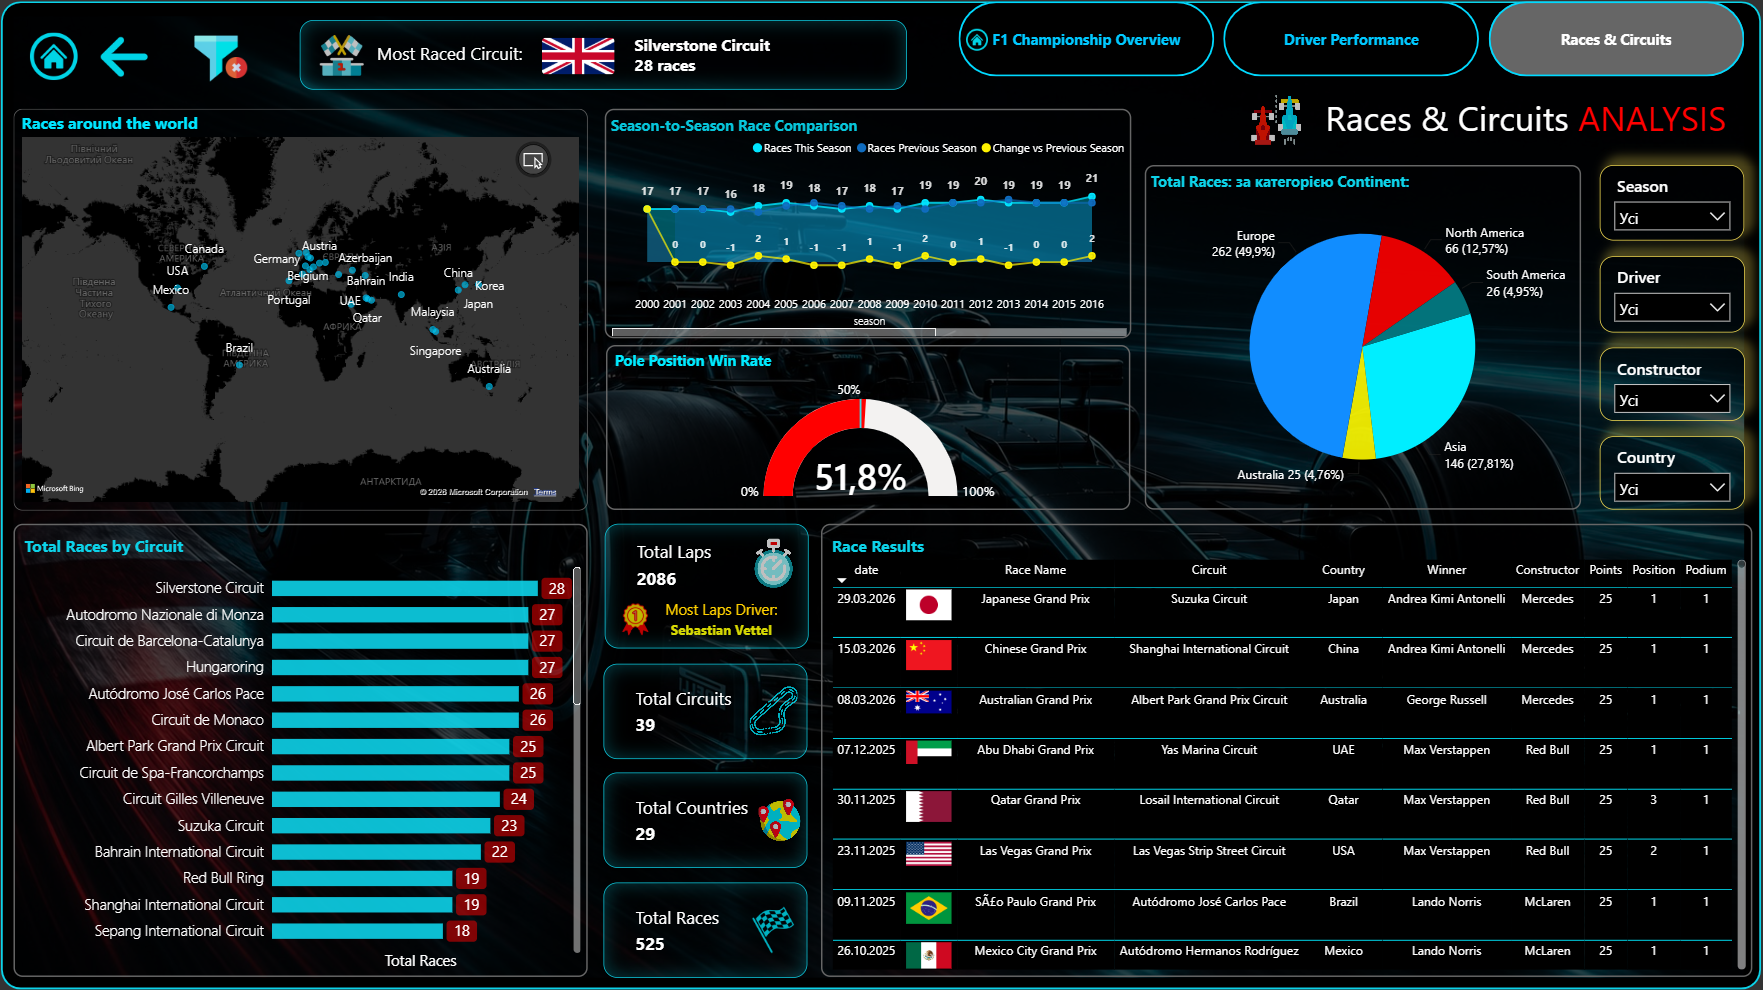

This screenshot's page, from the dashboard's own definition file:
{"tool":"powerbi","page":{"name":"Races & Circuits","canvas":[1920,1080],"ordinal":2},"visuals":[{"type":"shape","box":[0,2,1920,1078],"z":0},{"type":"image","box":[13.6,17.3,1888.2,1049.1],"z":1000},{"type":"textbox","box":[1440,98,462,86],"z":2000},{"type":"pageNavigator","box":[1044,2,858,82],"z":3000},{"type":"slicer","fields":{"Values":["f1_constructors.name"]},"box":[1744.7,379.5,158,80],"z":4000},{"type":"slicer","fields":{"Values":["f1_drivers.Driver Name"]},"box":[1744.7,279.3,158,83.3],"z":5000},{"type":"slicer","fields":{"Values":["f1_circuits_races.country"]},"box":[1744,476,158,80],"z":6000},{"type":"slicer","fields":{"Values":["f1_circuits_races.Year"]},"box":[1744.2,180,157.9,82.6],"z":7000},{"type":"image","box":[1052.7,31.3,24,24],"z":8000},{"type":"tableEx","title":"Race Results","fields":{"Values":["f1_circuits_races.date","f1_circuits_races.Flag URL for Country","f1_circuits_races.race_name","f1_circuits_races.circuit_name","f1_circuits_races.country","Measures_.Winner","Measures_.Winner Team","f1_results.points","Measures_.Winner Grid Position","Measures_.Winner Podium"]},"box":[894,572,1016,494],"z":9000},{"type":"map","title":"Races around the world","fields":{"Category":["f1_circuits_races.country"],"X":["f1_circuits_races.lng"],"Y":["f1_circuits_races.lat"]},"box":[14,118,626,438],"z":10000},{"type":"cardVisual","title":"Most Laps Driver:","fields":{"Data":["Measures_.Most Laps Driver"]},"box":[692,653,189,46],"z":11000},{"type":"cardVisual","fields":{"Data":["Measures_.Most Laps"]},"box":[658,572,222,136],"z":12000},{"type":"cardVisual","fields":{"Data":["Measures_.Total Countries"]},"box":[657.5,842.5,222,104],"z":13000},{"type":"cardVisual","fields":{"Data":["Measures_.Total Races"]},"box":[657.5,962.5,222,104],"z":14000},{"type":"cardVisual","fields":{"Data":["Measures_.Total Circuits"]},"box":[657.5,723.8,222,104],"z":15000},{"type":"clusteredBarChart","title":"Total Races by Circuit ","fields":{"Category":["f1_circuits_races.circuit_name"],"Y":["Measures_.Total Races"]},"box":[14,572,626,494],"z":16000},{"type":"donutChart","fields":{"Category":["f1_circuits_races.Continent"],"Y":["Measures_.Total Races"]},"box":[1248,180,476,376],"z":17000},{"type":"image","box":[208,36,62.3,56.9],"z":18000},{"type":"image","box":[106.2,36.2,56.2,50.8],"z":19000},{"type":"image","box":[30,35.4,55.4,52.3],"z":20000},{"type":"cardVisual","fields":{"Data":["Measures_.Most Raced Circuit"]},"box":[678.6,12.9,296,90],"z":21000},{"type":"cardVisual","fields":{"Data":["Measures_.Most Raced Circuit Flag"]},"box":[578.5,16.9,301.4,90],"z":22000},{"type":"textbox","box":[340,41.5,300,38.8],"z":23000},{"type":"textbox","box":[326,22,662,76],"z":24000},{"type":"lineChart","title":"Season-to-Season Race Comparison","fields":{"Category":["f1_circuits_races.season"],"Y":["Measures_.Total Races","Measures_.Previous Season Races","Measures_.Race Change"]},"box":[658,118,574,250],"z":25000},{"type":"gauge","fields":{"Y":["Measures_.Pole Position Conversion Rate"]},"box":[660,376,572,180],"z":25001},{"type":"image","box":[826.7,871.1,45.5,46.4],"z":25002},{"type":"image","box":[1363.3,103.3,55,54],"z":25003},{"type":"image","box":[816.2,748.8,51.9,53.8],"z":25004},{"type":"image","box":[816.7,988.9,51.1,51.1],"z":25005},{"type":"image","box":[816.7,587.8,52.2,53.3],"z":25006},{"type":"image","box":[673.1,657.7,36.9,36.9],"z":25007},{"type":"image","box":[347.7,36.2,47.7,46.9],"z":25008}]}

Visuals, with their boxes in screenshot pixels (x1, y1, x2, y2), scaled from the page's 1920x1080 canvas onto the 1763x990 screenshot:
shape: bbox=(0, 2, 1762, 989)
image: bbox=(12, 16, 1746, 978)
textbox: bbox=(1322, 90, 1746, 169)
pageNavigator: bbox=(959, 2, 1746, 77)
slicer - f1_constructors.name: bbox=(1602, 348, 1747, 421)
slicer - f1_drivers.Driver Name: bbox=(1602, 256, 1747, 332)
slicer - f1_circuits_races.country: bbox=(1601, 436, 1746, 510)
slicer - f1_circuits_races.Year: bbox=(1602, 165, 1747, 241)
image: bbox=(967, 29, 989, 51)
"Race Results" tableEx: bbox=(821, 524, 1754, 977)
"Races around the world" map: bbox=(13, 108, 588, 510)
"Most Laps Driver:" cardVisual: bbox=(635, 599, 809, 641)
cardVisual - Measures_.Most Laps: bbox=(604, 524, 808, 649)
cardVisual - Measures_.Total Countries: bbox=(604, 772, 808, 868)
cardVisual - Measures_.Total Races: bbox=(604, 882, 808, 978)
cardVisual - Measures_.Total Circuits: bbox=(604, 663, 808, 759)
"Total Races by Circuit " clusteredBarChart: bbox=(13, 524, 588, 977)
donutChart - f1_circuits_races.Continent x Measures_.Total Races: bbox=(1146, 165, 1583, 510)
image: bbox=(191, 33, 248, 85)
image: bbox=(98, 33, 149, 80)
image: bbox=(28, 32, 78, 80)
cardVisual - Measures_.Most Raced Circuit: bbox=(623, 12, 895, 94)
cardVisual - Measures_.Most Raced Circuit Flag: bbox=(531, 15, 808, 98)
textbox: bbox=(312, 38, 588, 74)
textbox: bbox=(299, 20, 907, 90)
"Season-to-Season Race Comparison" lineChart: bbox=(604, 108, 1131, 337)
gauge - Measures_.Pole Position Conversion Rate: bbox=(606, 345, 1131, 510)
image: bbox=(759, 799, 801, 841)
image: bbox=(1252, 95, 1302, 144)
image: bbox=(749, 686, 797, 736)
image: bbox=(750, 906, 797, 953)
image: bbox=(750, 539, 798, 588)
image: bbox=(618, 603, 652, 637)
image: bbox=(319, 33, 363, 76)
